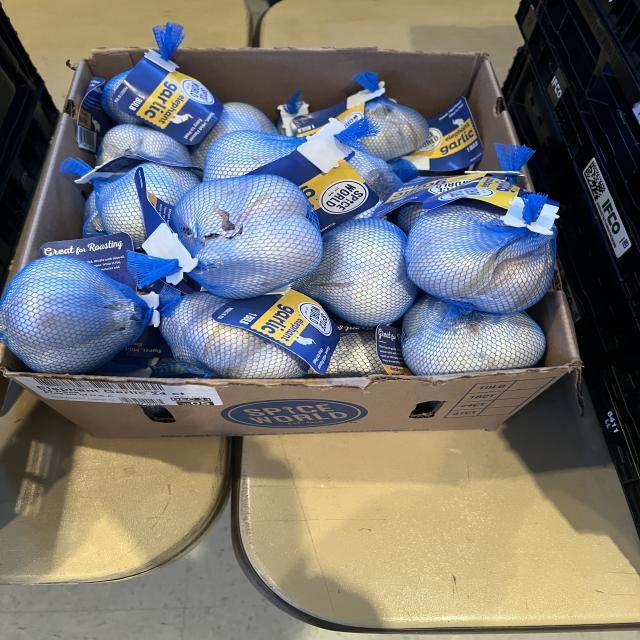Garlic: (170, 175, 322, 299), (0, 256, 152, 374), (405, 199, 557, 314), (293, 219, 418, 326), (160, 291, 308, 379), (402, 294, 545, 375), (190, 102, 278, 168), (203, 130, 305, 181), (362, 95, 428, 161), (95, 169, 147, 249), (97, 124, 192, 165), (325, 330, 387, 378), (348, 150, 402, 200), (138, 162, 200, 205), (102, 71, 145, 125), (82, 192, 107, 238), (397, 202, 427, 235)
